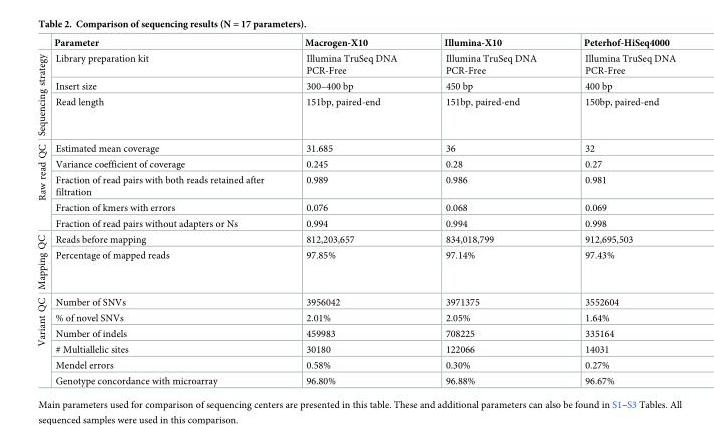table: (36, 37, 675, 385)
table column: (50, 37, 283, 385), (420, 37, 559, 385), (283, 37, 420, 385), (559, 37, 675, 385), (36, 37, 50, 385)
table column header: (36, 37, 675, 50)
table row: (36, 93, 675, 139), (36, 247, 675, 292), (36, 50, 675, 78), (36, 171, 675, 199), (36, 139, 675, 156), (36, 292, 675, 309), (36, 199, 675, 215), (36, 215, 675, 231), (36, 231, 675, 247), (36, 309, 675, 325), (36, 325, 675, 341), (36, 341, 675, 357), (36, 78, 675, 93), (36, 156, 675, 171), (36, 357, 675, 372), (36, 37, 675, 50), (36, 372, 675, 385)
table spanning cell: (36, 292, 50, 385), (36, 139, 50, 231), (36, 50, 50, 139), (36, 231, 50, 292)
